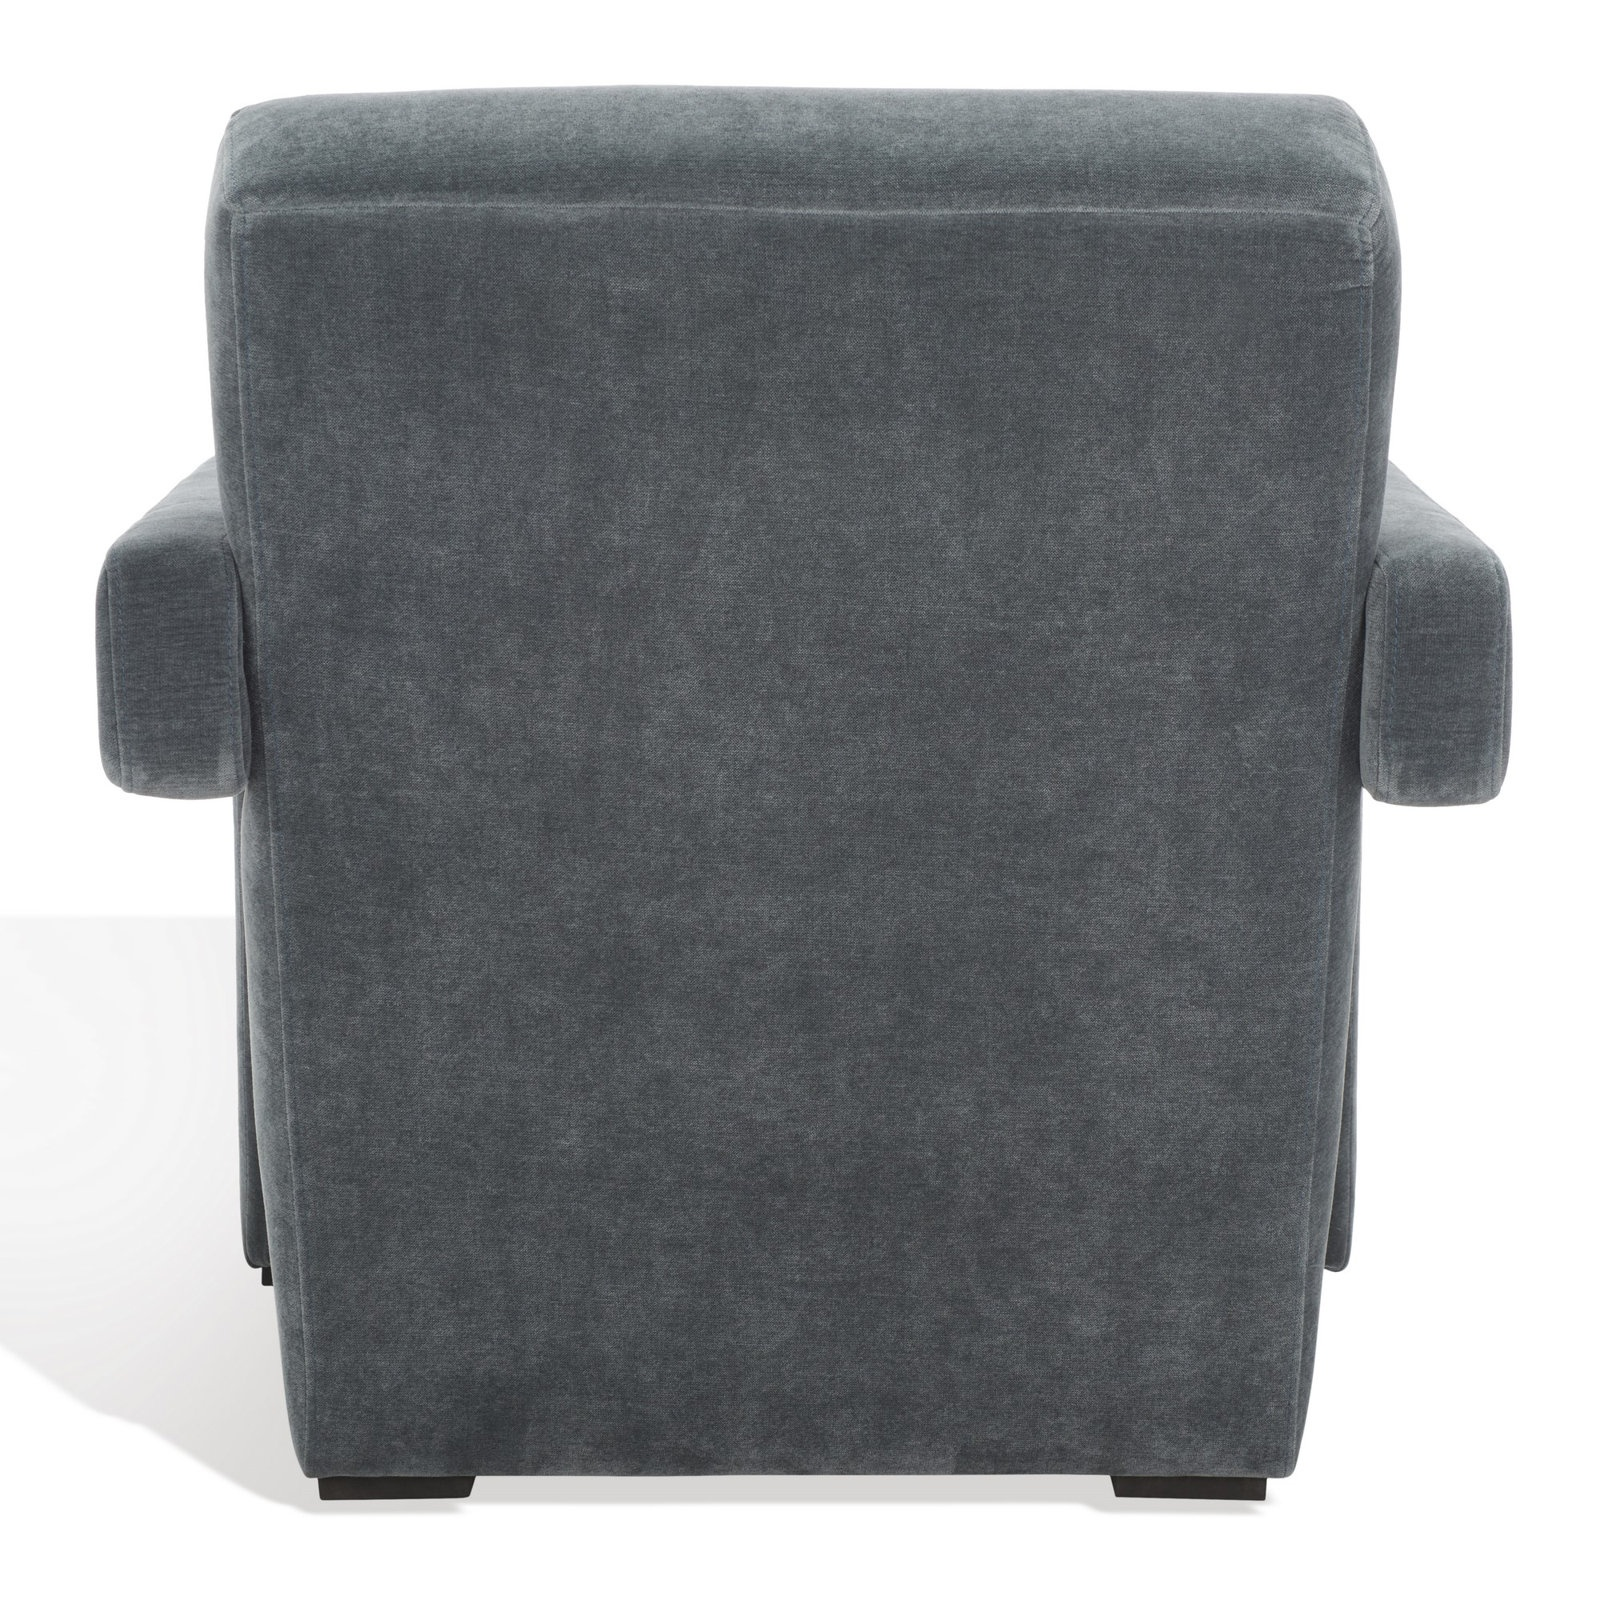obstacle: (98, 88, 1508, 1497)
